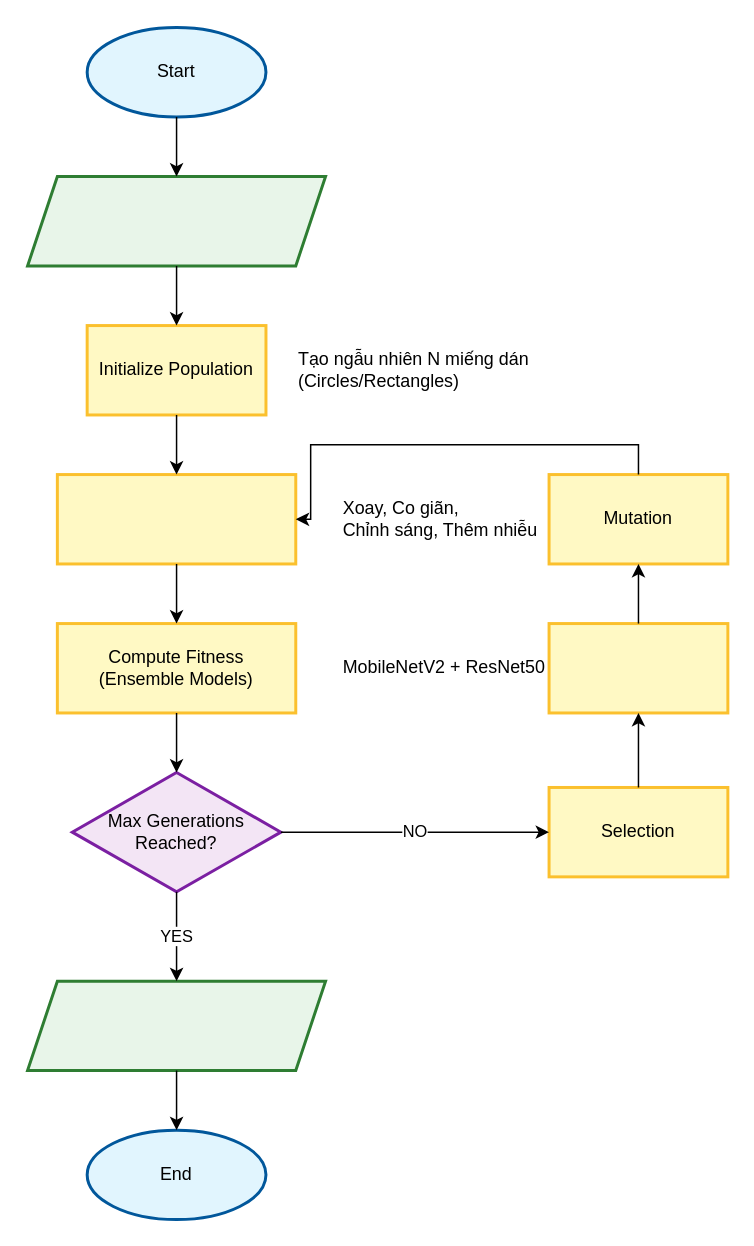
Some shapes in this 754 by 1246 pixel diagram are drawn without their labels. Here are the shapes that lost their labels. From the top down, the centre of each, then its label:
At [175,220]: "Input: Target Class, Background Images".
At [176,518]: "Apply EOT Transformation".
At [638,667]: "Crossover".
At [175,1025]: "Output: Best Adversarial Patch".
